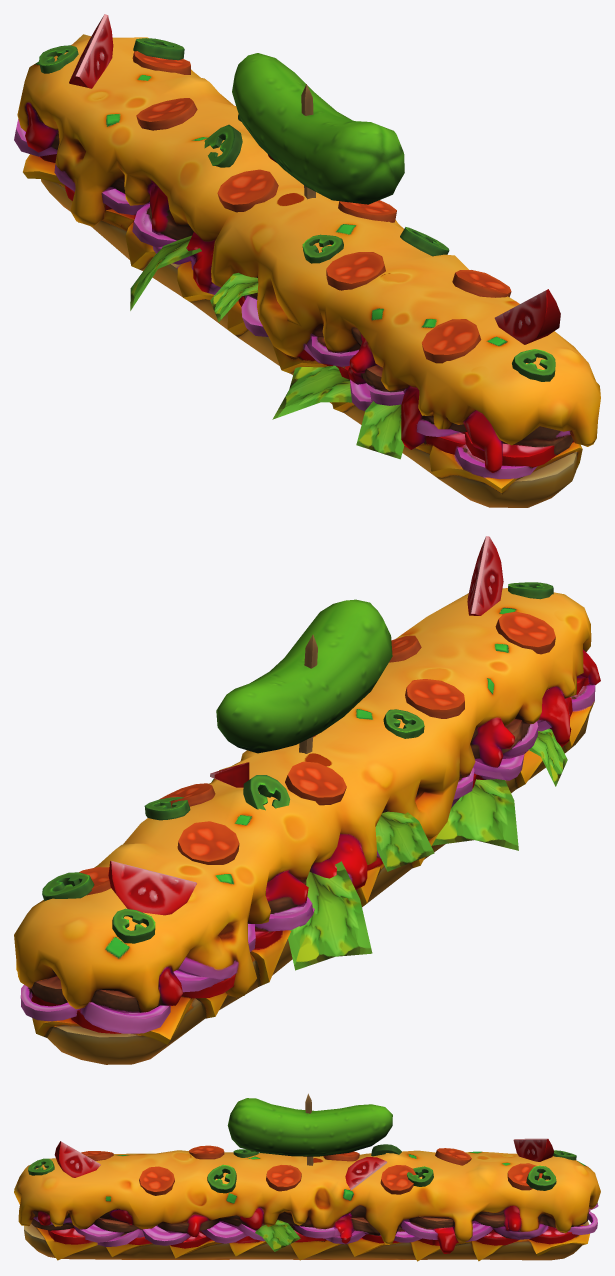
The model's file is char_longsandwich.fbx.
3 renders of one model, top to bottom at view 1: azimuth 30°, elevation 25°; view 2: azimuth 150°, elevation 25°; view 3: azimuth 270°, elevation 25°, orthographic. The views are drawn at different scales.
Parts seen in each view (by area): view 1: char_longsandwich1; view 2: char_longsandwich1; view 3: char_longsandwich1.
Boxes of the visible parts, box(x1,y1,x2,y2) form: char_longsandwich1: box(14, 14, 600, 507); char_longsandwich1: box(14, 536, 600, 1064); char_longsandwich1: box(14, 1093, 600, 1261).
Size of the model in its own units: 1.6 by 1.81 by 6.01.
